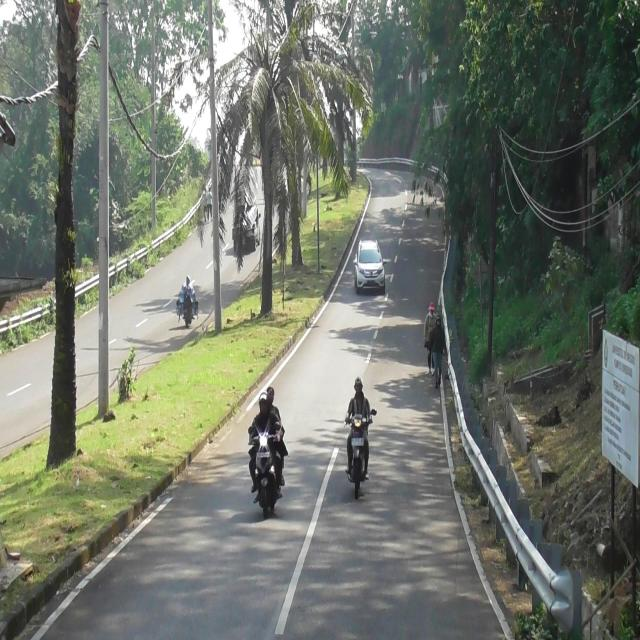motorcycle: (247, 421, 280, 513), (347, 411, 367, 500), (182, 298, 194, 328)
person: (249, 392, 282, 490), (344, 377, 373, 423), (266, 386, 281, 421), (184, 274, 192, 285)
rider_region: (247, 388, 284, 518), (341, 378, 375, 502), (181, 276, 195, 323)
